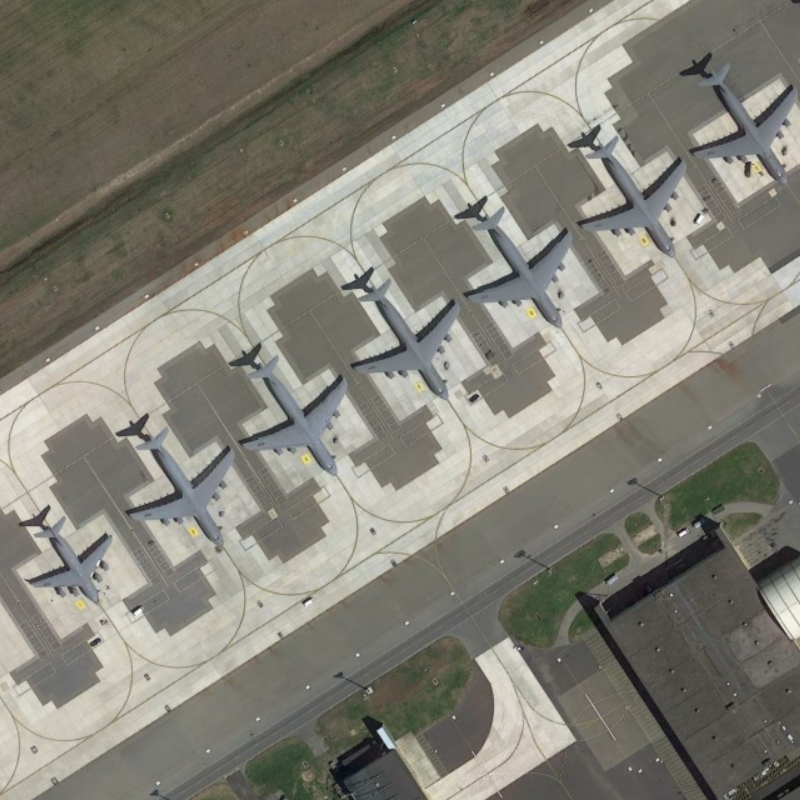A3: (22, 506, 120, 610)
A4: (571, 126, 695, 262), (123, 417, 238, 555), (459, 199, 576, 333), (686, 53, 800, 189), (235, 347, 350, 481), (349, 274, 462, 405)
